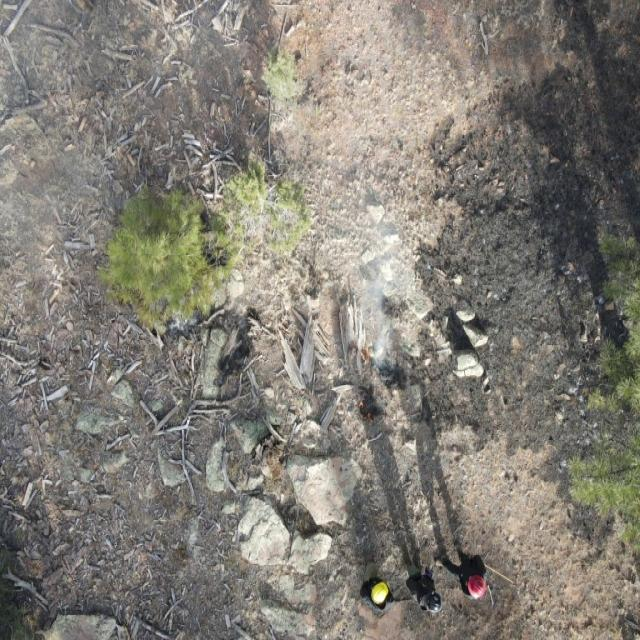fire: (349, 343, 376, 368), (358, 400, 375, 424)
smoke: (0, 0, 112, 265), (316, 206, 414, 372)
